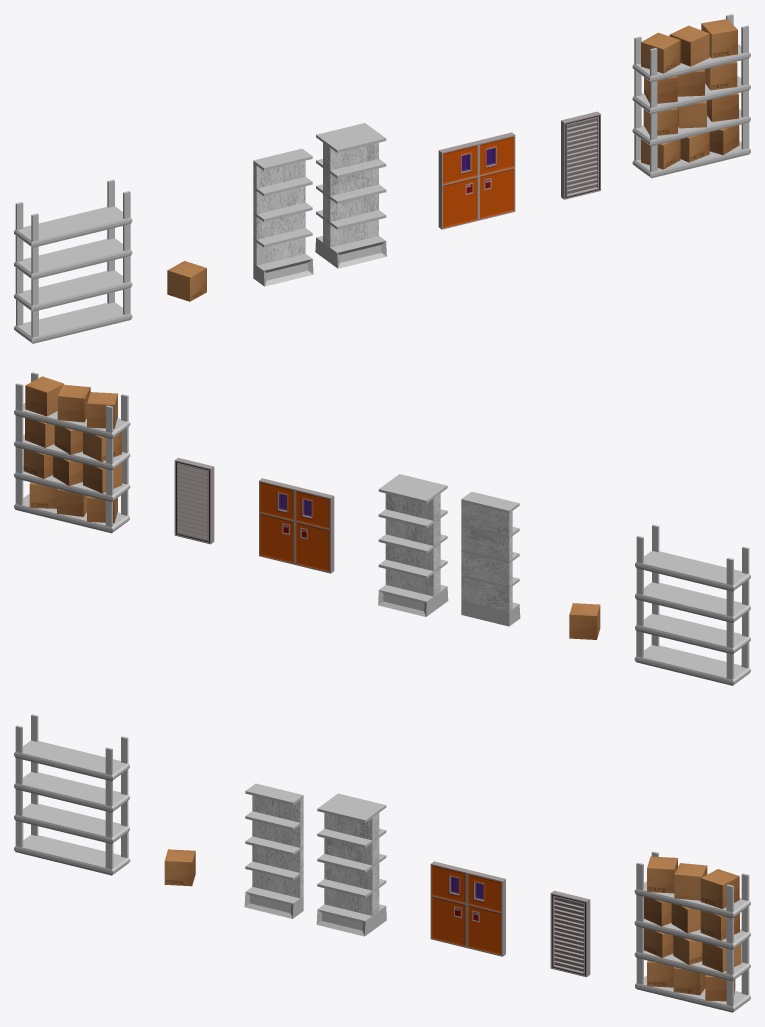
The model's file is PileOfJit.fbx.
3 views of the same model, one above another, from view 1: azimuth 30°, elevation 25°; view 2: azimuth 150°, elevation 25°; view 3: azimuth 330°, elevation 25° (orthographic).
Parts seen in each view (by area): view 1: Regal.001, CartonWall, DoublesidedShelf, OnesidedShelf, Regal, HeavyDoorL, VentWall, HeavyDoorR, Cube.002; view 2: Regal.001, CartonWall, DoublesidedShelf, OnesidedShelf, Regal, VentWall, HeavyDoorL, HeavyDoorR, Cube.002; view 3: Regal.001, CartonWall, DoublesidedShelf, OnesidedShelf, Regal, VentWall, HeavyDoorR, HeavyDoorL, Cube.002.
Part boxes in pixels (left/top/right/bottom): Regal.001: left=14, top=179, right=132, bottom=343; CartonWall: left=641, top=19, right=739, bottom=169; DoublesidedShelf: left=315, top=123, right=386, bottom=268; OnesidedShelf: left=253, top=148, right=313, bottom=286; Regal: left=632, top=14, right=750, bottom=178; HeavyDoorL: left=438, top=141, right=478, bottom=229; VentWall: left=561, top=111, right=600, bottom=199; HeavyDoorR: left=475, top=132, right=515, bottom=220; Cube.002: left=167, top=261, right=206, bottom=301; Regal.001: left=634, top=524, right=750, bottom=685; CartonWall: left=23, top=376, right=121, bottom=523; DoublesidedShelf: left=378, top=474, right=448, bottom=616; OnesidedShelf: left=461, top=491, right=520, bottom=626; Regal: left=14, top=372, right=130, bottom=533; VentWall: left=174, top=457, right=214, bottom=544; HeavyDoorL: left=295, top=487, right=334, bottom=573; HeavyDoorR: left=259, top=478, right=297, bottom=564; Cube.002: left=569, top=603, right=600, bottom=639; Regal.001: left=14, top=714, right=130, bottom=875; CartonWall: left=644, top=856, right=741, bottom=1001; DoublesidedShelf: left=316, top=793, right=386, bottom=936; OnesidedShelf: left=244, top=783, right=303, bottom=918; Regal: left=634, top=851, right=750, bottom=1012; VentWall: left=550, top=890, right=590, bottom=977; HeavyDoorR: left=466, top=870, right=505, bottom=956; HeavyDoorL: left=430, top=861, right=469, bottom=947; Cube.002: left=164, top=849, right=195, bottom=886.
Size of the model in its own units: 5938 by 1061 by 391.
